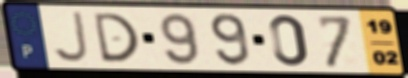0: (267, 13, 310, 68)
7: (317, 15, 354, 69)
9: (156, 12, 203, 66), (208, 12, 252, 67)
D: (91, 11, 142, 64)
J: (50, 10, 91, 64)
